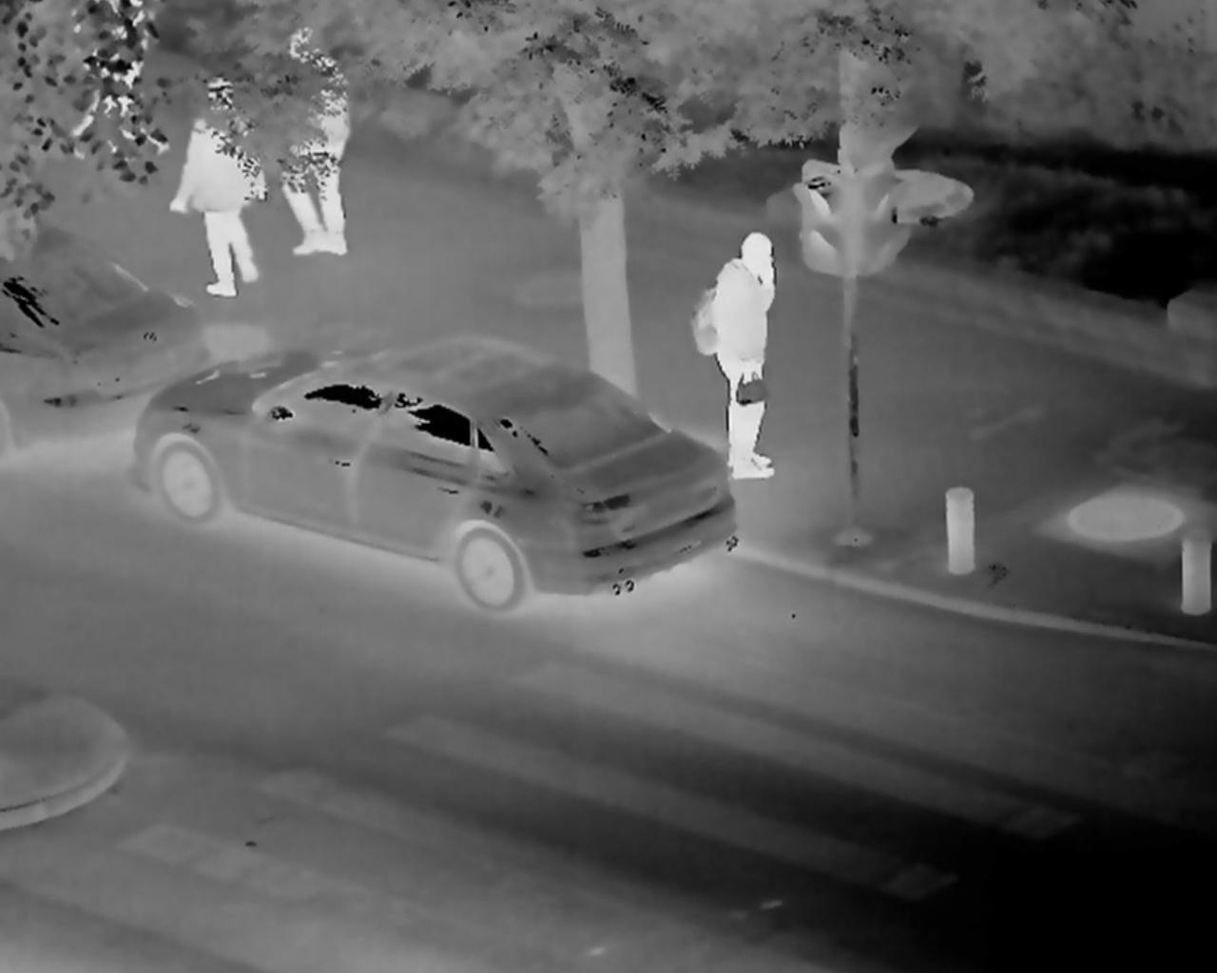person: (696, 221, 791, 482), (181, 75, 272, 312), (273, 27, 359, 263), (73, 3, 165, 166)
